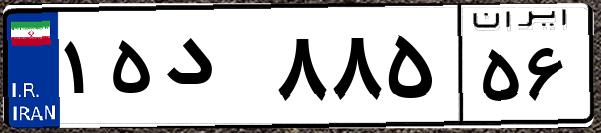1: (57, 26, 110, 100)
5: (385, 28, 445, 110), (475, 38, 525, 113), (110, 28, 158, 98)
6: (525, 38, 570, 115)
8: (270, 28, 330, 110), (330, 28, 385, 110)
د: (158, 20, 270, 120)
